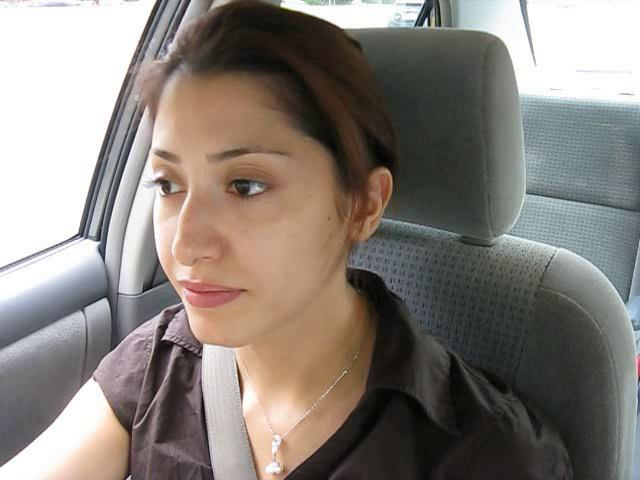no_yawn: (159, 267, 264, 319)
open_eyeL: (138, 164, 196, 208)
open_eyeR: (215, 166, 283, 212)
